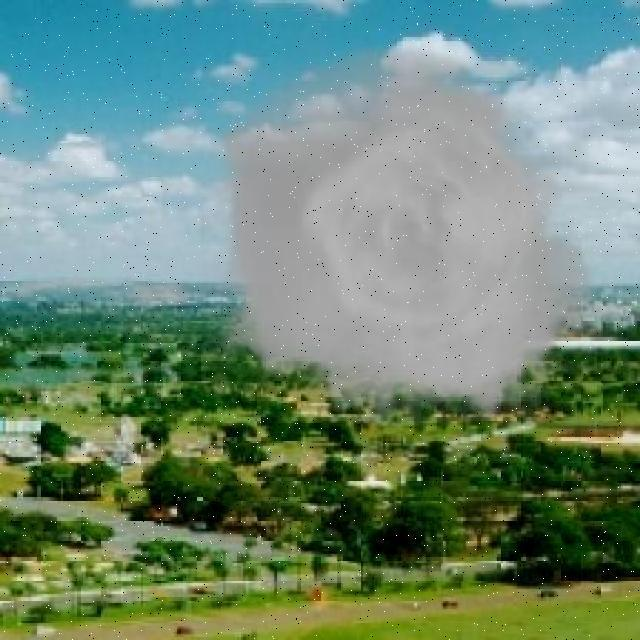smoke: (228, 85, 608, 407)
